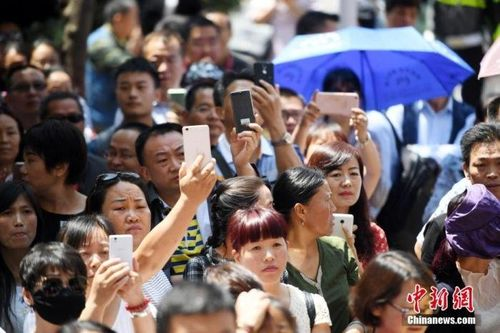taking photos: (88, 233, 146, 302), (299, 87, 369, 137), (176, 123, 219, 203), (251, 60, 286, 123)
